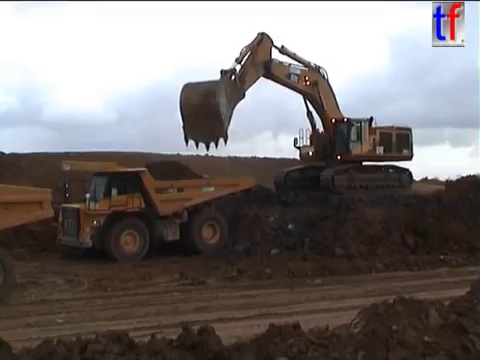excavator: (176, 29, 416, 199)
truck: (54, 157, 258, 264), (1, 175, 55, 304)
